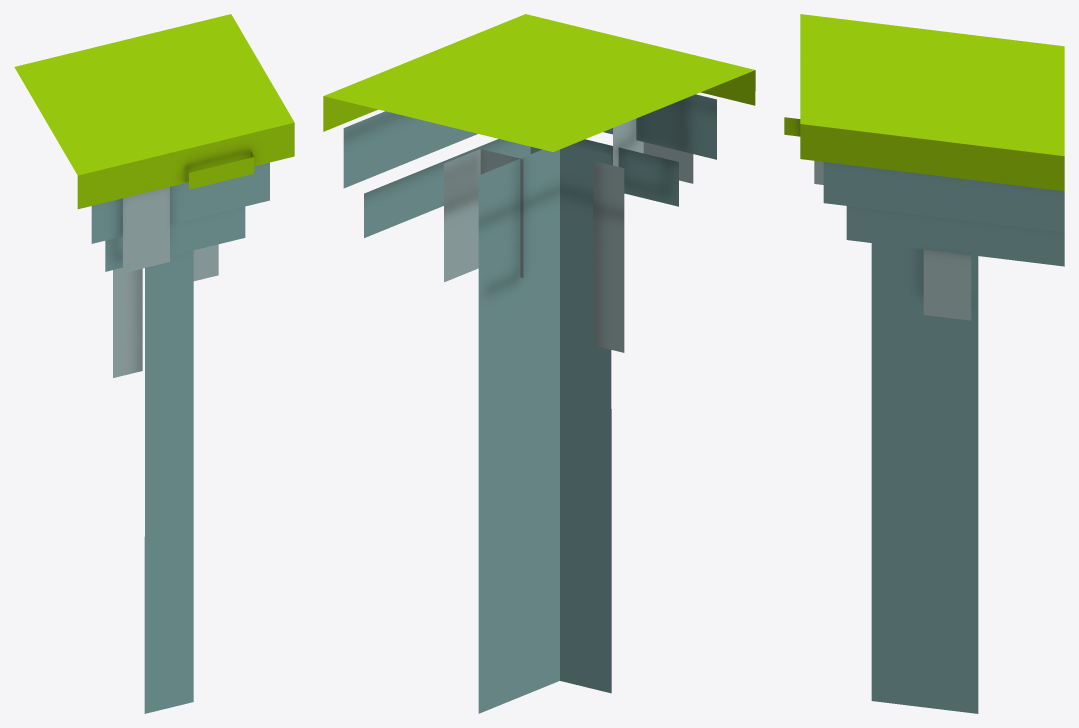
Rendered from Field_Type_01_07.FBX.
3 renders of one model, left to right at view 1: azimuth 30°, elevation 25°; view 2: azimuth 150°, elevation 25°; view 3: azimuth 270°, elevation 25°, orthographic. The views are drawn at different scales.
Parts seen in each view (by area): view 1: Field_Type_01_07; view 2: Field_Type_01_07; view 3: Field_Type_01_07.
Part boxes in pixels (bbox=[...]): Field_Type_01_07: bbox=[14, 14, 294, 713]; Field_Type_01_07: bbox=[323, 14, 755, 713]; Field_Type_01_07: bbox=[784, 14, 1064, 713].
Bounding box in the file's own units: 13.77 × 27.56 × 11.45.
